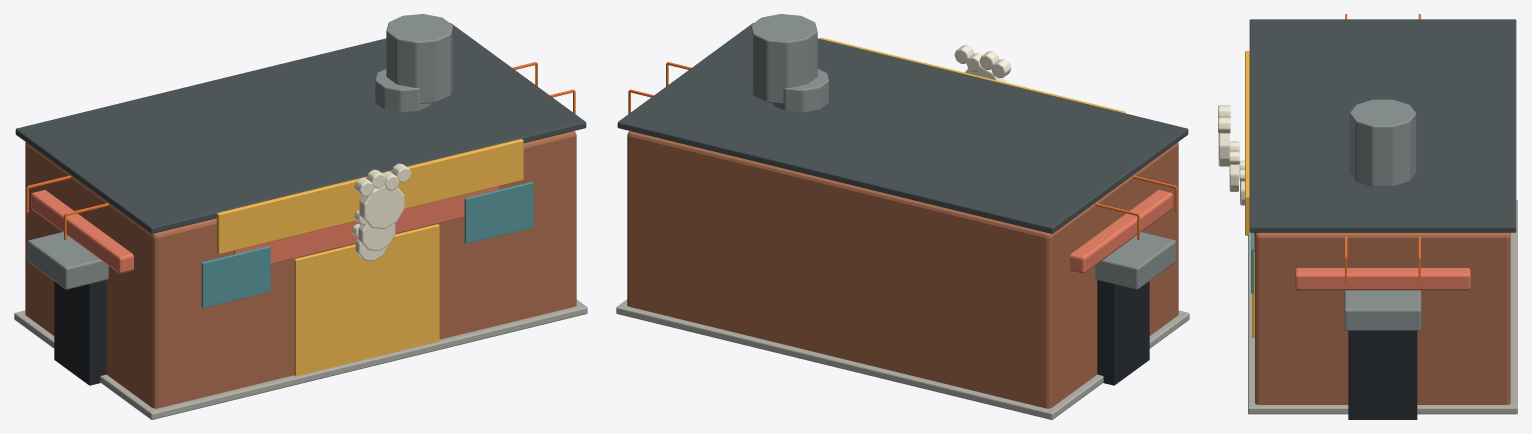
File: kaki-rally-roadside-kit-v3.glb
3 views of the same model, side by side, from view 1: azimuth 30°, elevation 25°; view 2: azimuth 150°, elevation 25°; view 3: azimuth 270°, elevation 25° (orthographic). The views are drawn at different scales.
Parts seen in each view (by area): view 1: Roof.012, Shell.012, KR_ROADSIDE_KILN_SHED_LOD0_KR_MAT_KAKI_EVENT_AMBER, KR_ROADSIDE_KILN_SHED_LOD0_KR_MAT_TEST_LAB_GLASS, Foundation.012, RoofVent.004, KR_ROADSIDE_QUARRY_CONVEYOR_COL_PROXY, KR_ROADSIDE_POST_DEPOT_LOD0_KR_MAT_KAKI_EVENT_CORAL, Deck, Roof.015, KR_ROADSIDE_KILN_SHED_LOD0_KR_MAT_EDGE_CREAM, RoofVent.002 (+2 smaller); view 2: Shell.012, Roof.012, Foundation.012, RoofVent.004, KR_ROADSIDE_QUARRY_CONVEYOR_COL_PROXY, Deck, Roof.015, RoofVent.002, KR_ROADSIDE_KILN_SHED_LOD0_KR_MAT_EDGE_CREAM, KR_ROADSIDE_QUARRY_CONVEYOR_LOD0_KR_MAT_SAFETY_ORANGE, KR_ROADSIDE_KILN_SHED_LOD0_KR_MAT_KAKI_EVENT_AMBER; view 3: Roof.012, Shell.012, KR_ROADSIDE_QUARRY_CONVEYOR_COL_PROXY, RoofVent.004, Foundation.012, Roof.015, Deck, KR_ROADSIDE_KILN_SHED_LOD0_KR_MAT_KAKI_EVENT_AMBER, KR_ROADSIDE_KILN_SHED_LOD0_KR_MAT_EDGE_CREAM, KR_ROADSIDE_POST_DEPOT_LOD0_KR_MAT_EDGE_CREAM, KR_ROADSIDE_QUARRY_CONVEYOR_LOD0_KR_MAT_SAFETY_ORANGE.
Boxes of the visible parts, left/top/right/bottom form: Roof.012: left=15, top=23, right=586, bottom=233; Shell.012: left=25, top=131, right=576, bottom=408; KR_ROADSIDE_KILN_SHED_LOD0_KR_MAT_KAKI_EVENT_AMBER: left=216, top=139, right=523, bottom=376; KR_ROADSIDE_KILN_SHED_LOD0_KR_MAT_TEST_LAB_GLASS: left=201, top=182, right=533, bottom=308; Foundation.012: left=14, top=299, right=587, bottom=419; RoofVent.004: left=386, top=14, right=452, bottom=103; KR_ROADSIDE_QUARRY_CONVEYOR_COL_PROXY: left=54, top=280, right=106, bottom=385; KR_ROADSIDE_POST_DEPOT_LOD0_KR_MAT_KAKI_EVENT_CORAL: left=234, top=186, right=498, bottom=263; Deck: left=27, top=232, right=108, bottom=289; Roof.015: left=31, top=190, right=133, bottom=273; KR_ROADSIDE_KILN_SHED_LOD0_KR_MAT_EDGE_CREAM: left=354, top=163, right=411, bottom=228; RoofVent.002: left=375, top=69, right=431, bottom=112; Shell.012: left=627, top=131, right=1178, bottom=408; Roof.012: left=617, top=23, right=1188, bottom=233; Foundation.012: left=616, top=299, right=1189, bottom=419; RoofVent.004: left=751, top=14, right=817, bottom=103; KR_ROADSIDE_QUARRY_CONVEYOR_COL_PROXY: left=1097, top=280, right=1149, bottom=385; Deck: left=1095, top=232, right=1176, bottom=289; Roof.015: left=1070, top=190, right=1172, bottom=273; RoofVent.002: left=772, top=69, right=828, bottom=112; KR_ROADSIDE_KILN_SHED_LOD0_KR_MAT_EDGE_CREAM: left=954, top=45, right=1011, bottom=82; KR_ROADSIDE_QUARRY_CONVEYOR_LOD0_KR_MAT_SAFETY_ORANGE: left=628, top=62, right=1177, bottom=240; KR_ROADSIDE_KILN_SHED_LOD0_KR_MAT_KAKI_EVENT_AMBER: left=819, top=37, right=1125, bottom=113; Roof.012: left=1249, top=19, right=1516, bottom=232; Shell.012: left=1255, top=232, right=1510, bottom=404; KR_ROADSIDE_QUARRY_CONVEYOR_COL_PROXY: left=1348, top=331, right=1417, bottom=419; RoofVent.004: left=1349, top=99, right=1416, bottom=186; Foundation.012: left=1248, top=200, right=1517, bottom=414; Roof.015: left=1295, top=268, right=1470, bottom=290; Deck: left=1344, top=290, right=1421, bottom=330; KR_ROADSIDE_KILN_SHED_LOD0_KR_MAT_KAKI_EVENT_AMBER: left=1245, top=51, right=1254, bottom=337; KR_ROADSIDE_KILN_SHED_LOD0_KR_MAT_EDGE_CREAM: left=1218, top=105, right=1230, bottom=166; KR_ROADSIDE_POST_DEPOT_LOD0_KR_MAT_EDGE_CREAM: left=1229, top=141, right=1239, bottom=191; KR_ROADSIDE_QUARRY_CONVEYOR_LOD0_KR_MAT_SAFETY_ORANGE: left=1345, top=14, right=1420, bottom=282.
Size of the model in its own units: 18.06 by 8.8 by 9.38.
